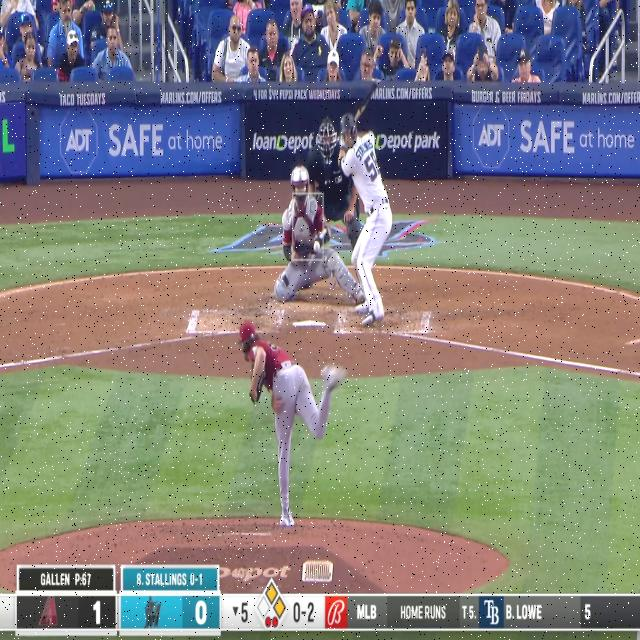baseball: (312, 240, 321, 254)
